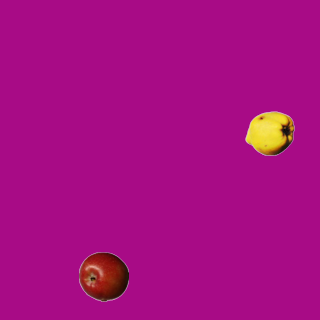Apple Braeburn: (78, 251, 128, 301)
Quince: (244, 108, 294, 158)
